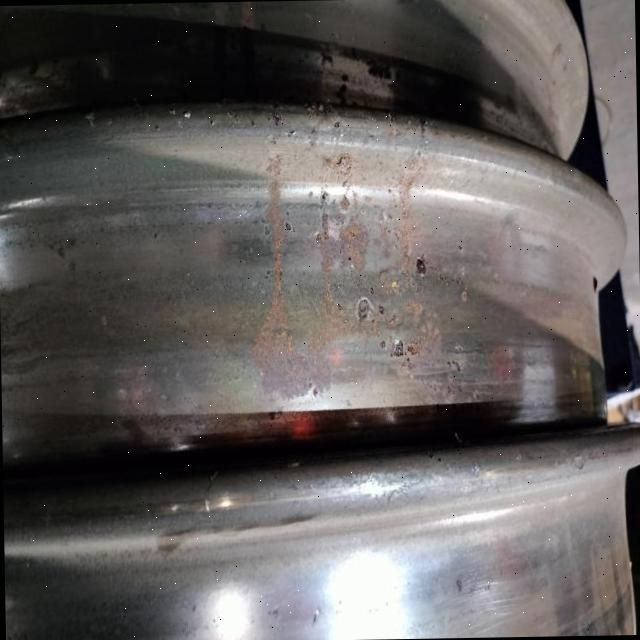Blue hole: (374, 322, 412, 376), (411, 253, 429, 279)
